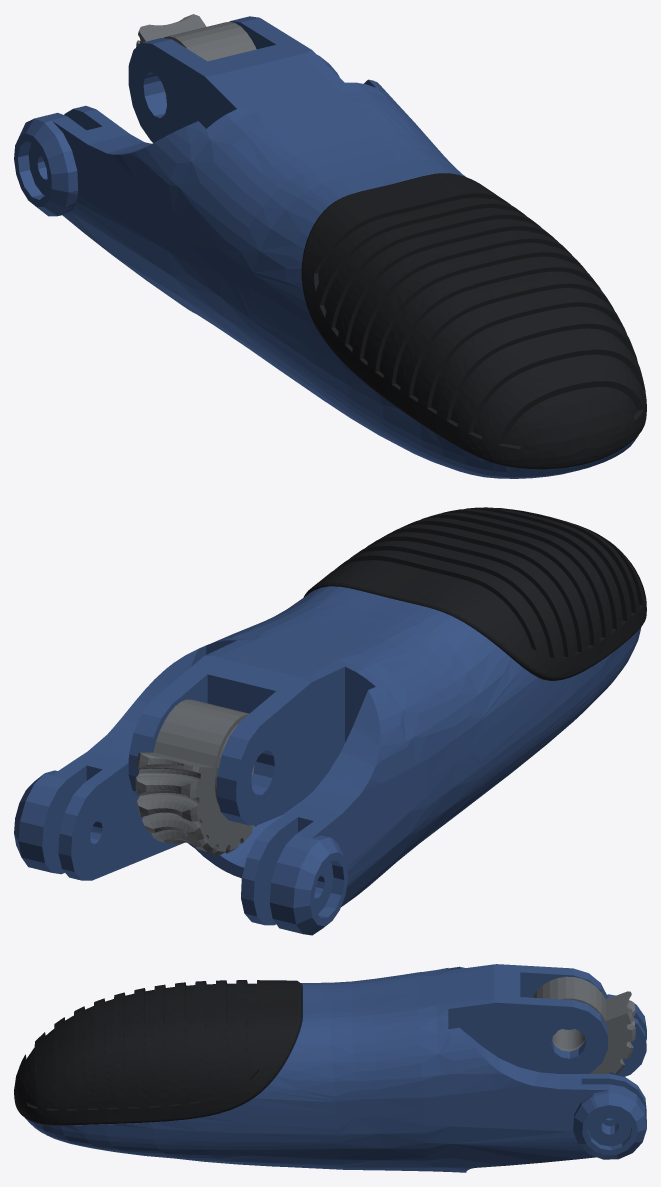
File: lh_thumb_distal_vis.obj
The picture shows the model from 3 angles, top to bottom: view 1: azimuth 30°, elevation 25°; view 2: azimuth 150°, elevation 25°; view 3: azimuth 270°, elevation 25°; orthographic projection. The views are drawn at different scales.
Visible parts, largest first — view 1: lh_thumb_distal; view 2: lh_thumb_distal; view 3: lh_thumb_distal.
Part boxes in pixels (left/top/right/bottom): lh_thumb_distal: left=14, top=14, right=646, bottom=478; lh_thumb_distal: left=14, top=507, right=646, bottom=935; lh_thumb_distal: left=14, top=964, right=646, bottom=1172.
Bounding box in the file's own units: 0.022 × 0.0166 × 0.0554.
1 material, 1 textured.
